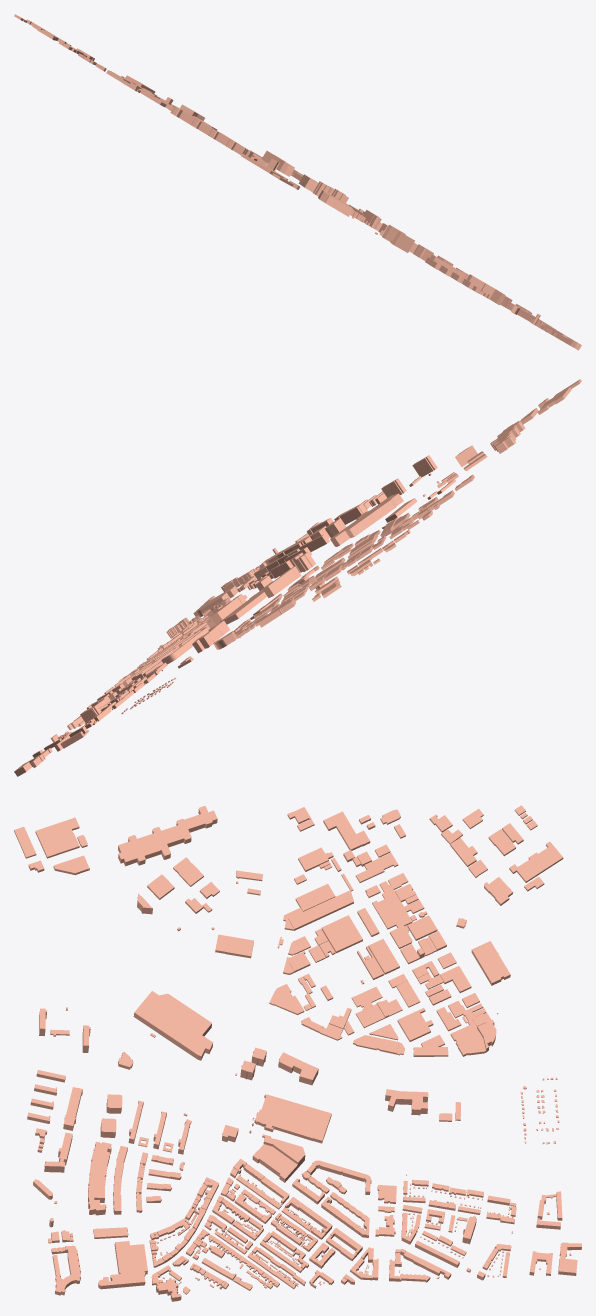
The picture shows the model from 3 angles, top to bottom: view 1: azimuth 30°, elevation 25°; view 2: azimuth 150°, elevation 25°; view 3: azimuth 270°, elevation 25°; orthographic projection. The views are drawn at different scales.
Bounding box in the file's own units: 1053 × 794 × 1301.
